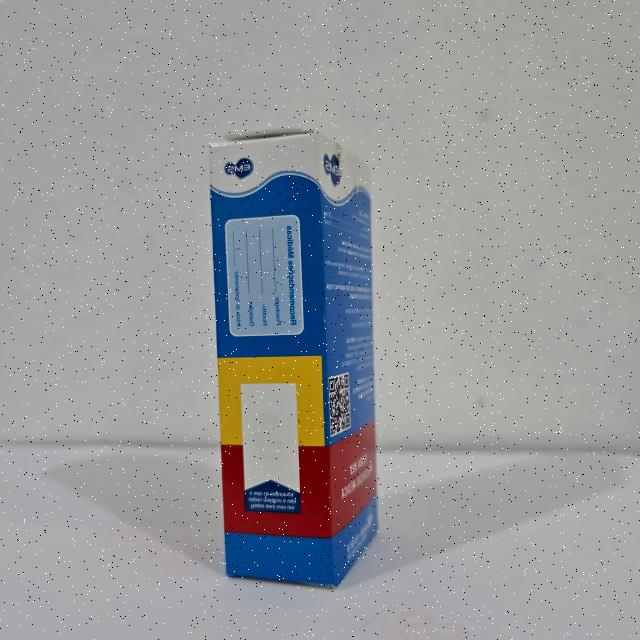prednisona: (204, 125, 383, 596)
